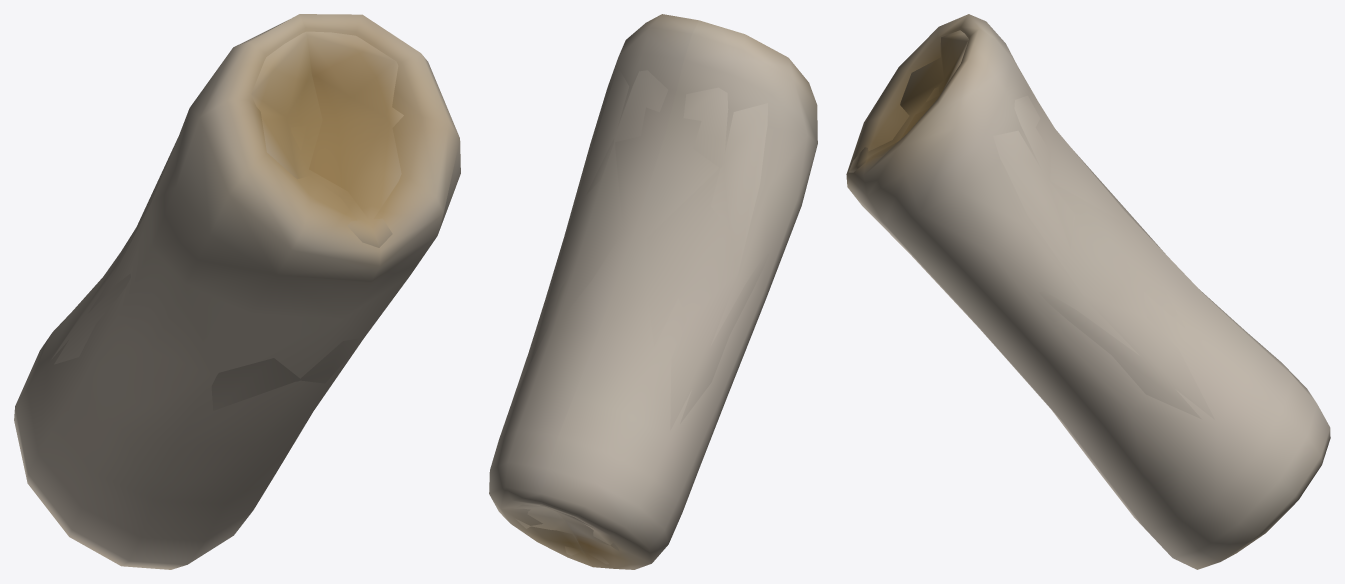
File: vertebrae caudales 15.fbx
3 views of the same model, side by side, from view 1: azimuth 30°, elevation 25°; view 2: azimuth 150°, elevation 25°; view 3: azimuth 270°, elevation 25° (orthographic). The views are drawn at different scales.
Visible parts, largest first — view 1: vertebrae caudales 15, vertebrae caudales 15 low; view 2: vertebrae caudales 15, vertebrae caudales 15 low; view 3: vertebrae caudales 15, vertebrae caudales 15 low.
Boxes of the visible parts, bbox=[...] form: vertebrae caudales 15: bbox=[14, 14, 460, 569]; vertebrae caudales 15 low: bbox=[51, 31, 403, 410]; vertebrae caudales 15: bbox=[489, 14, 817, 569]; vertebrae caudales 15 low: bbox=[514, 66, 769, 564]; vertebrae caudales 15: bbox=[846, 14, 1330, 569]; vertebrae caudales 15 low: bbox=[848, 30, 1214, 419].
Size of the model in its own units: 0.6379 by 1.41 by 1.16.
Materials: 1 (1 with a texture image).
